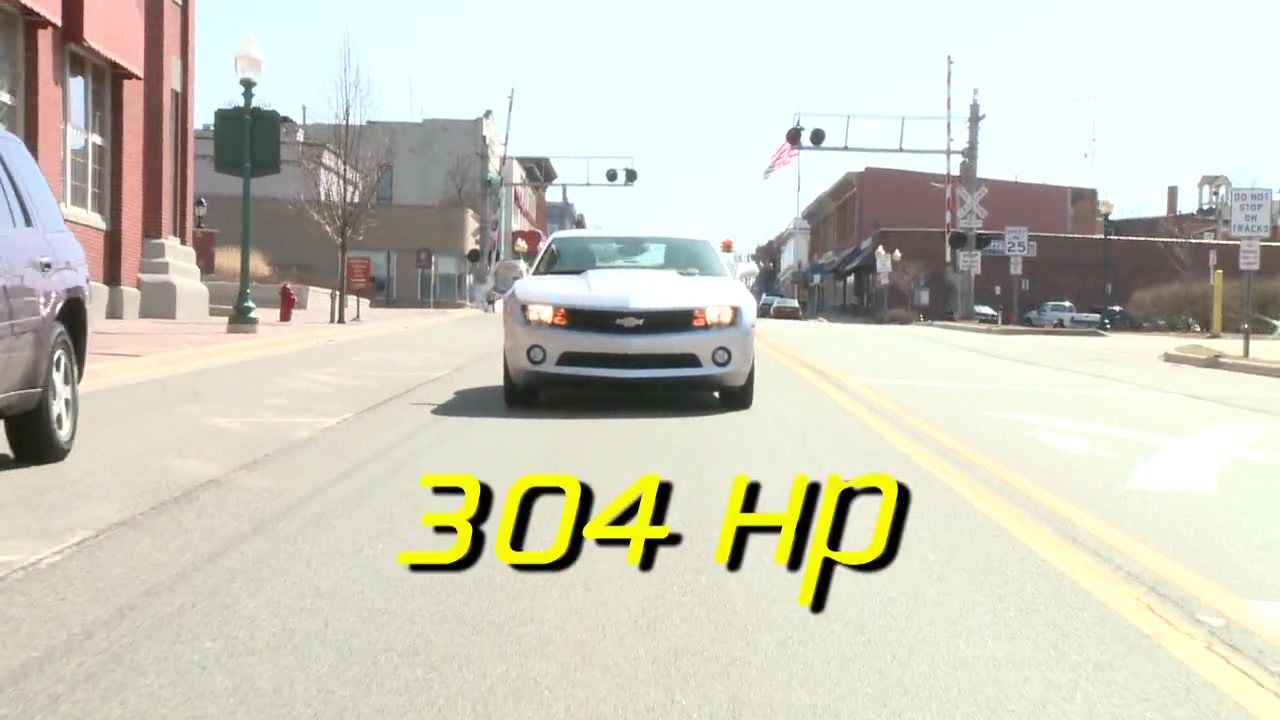car: (495, 228, 766, 416)
